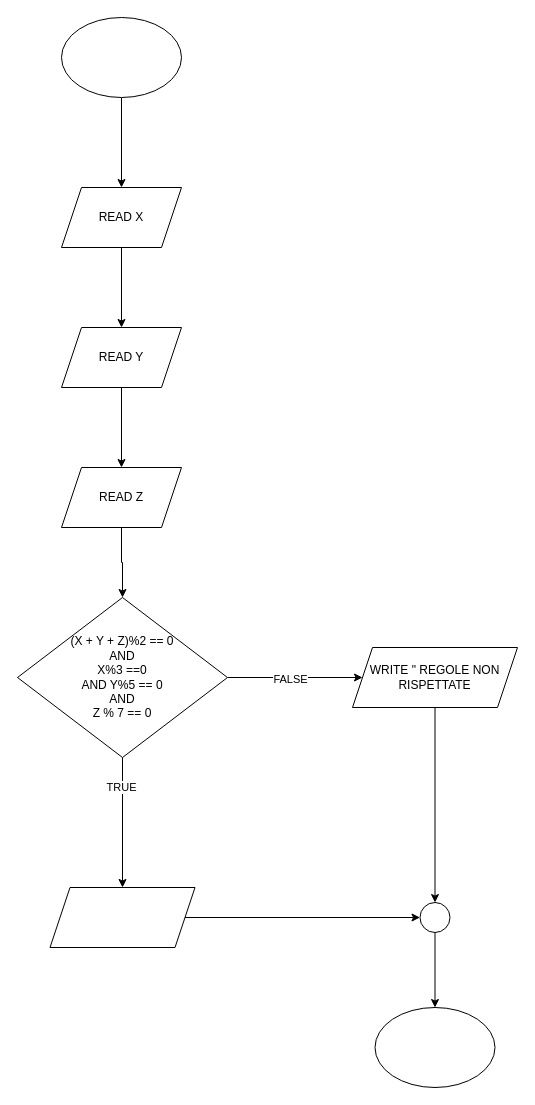
Image size: 535x1105. Some labels were removed from this diagram. Each missing label, with the box of its shape:
END: (374, 1006, 495, 1088)
START: (60, 16, 182, 98)
WRITE " REGOLE RISPETTATE": (49, 886, 195, 948)
